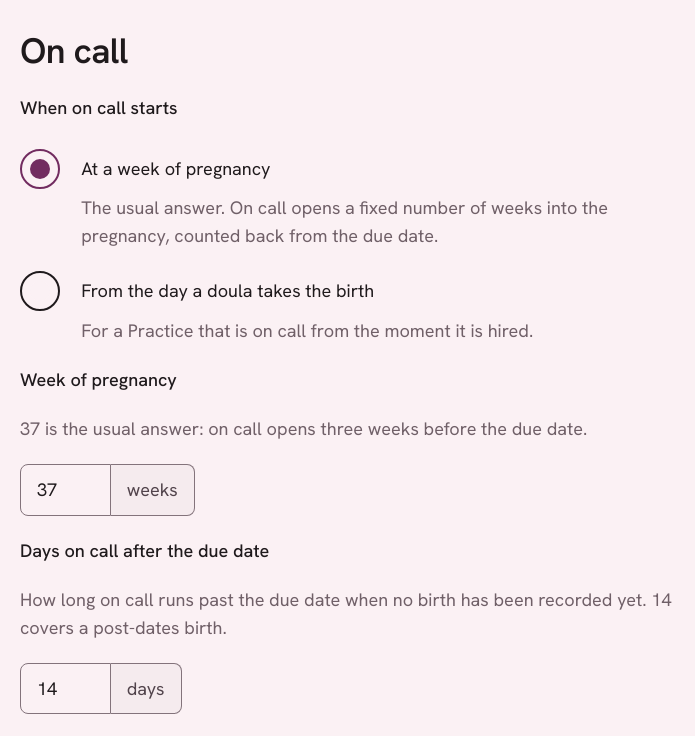
Test case: the on-call rule screen › switches to the day a doula takes the birth, and stops sending a week for it
Click the radio button labelled "From the day a doula takes the birth". click: (40, 291)
box: [20, 271, 60, 311]
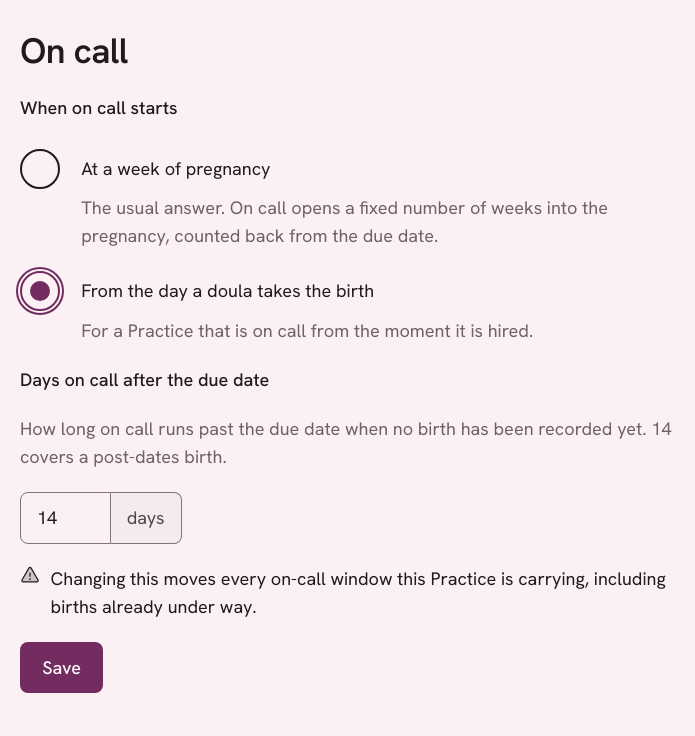
Click the button "Save". click: (62, 668)
box: [20, 642, 103, 693]
(page scrolled)
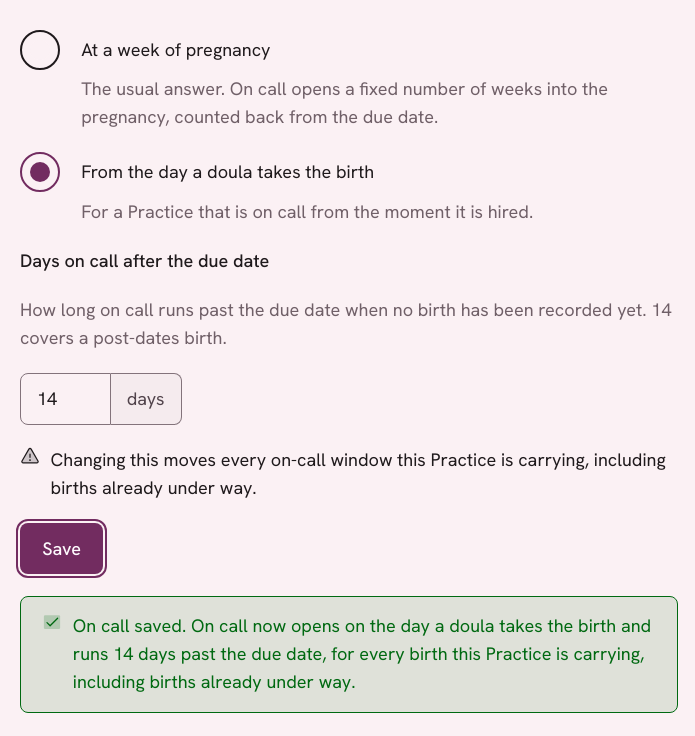
Now the 2nd message shows "opens on the day a doula takes the birth and runs 14 days", box [73, 614, 651, 694]
